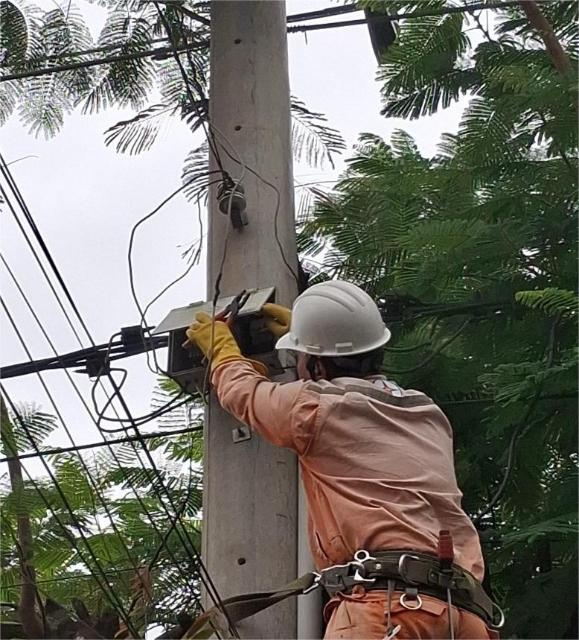gloves: (186, 304, 266, 377), (256, 295, 303, 363)
harness: (307, 543, 516, 628)
helmet: (285, 256, 391, 375)
